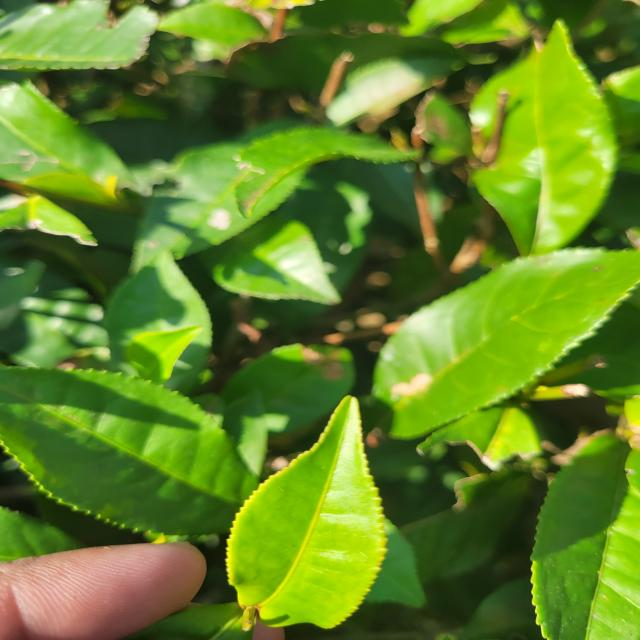Catagory A(1-2 days): (218, 385, 404, 635)
